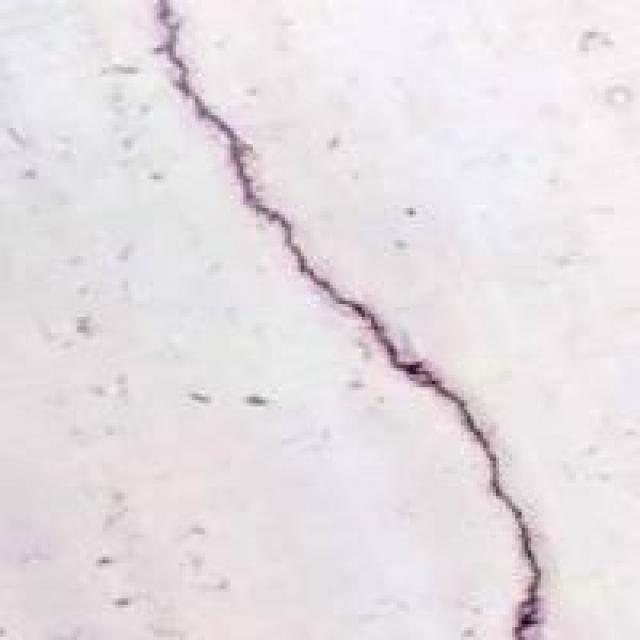crack: (144, 3, 566, 630)
